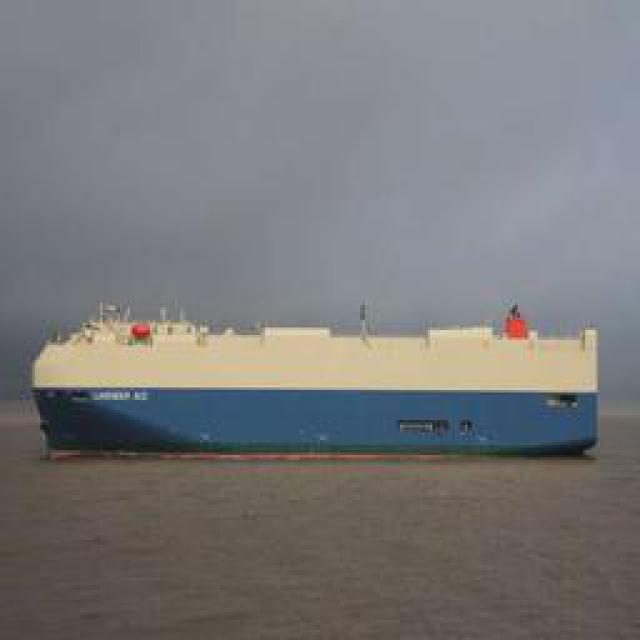Ship: (34, 311, 597, 471)
